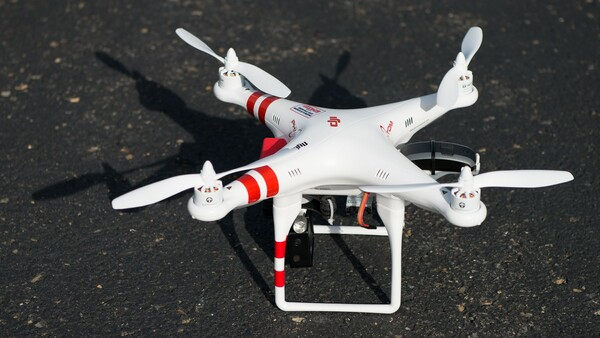drone: (110, 25, 575, 316)
